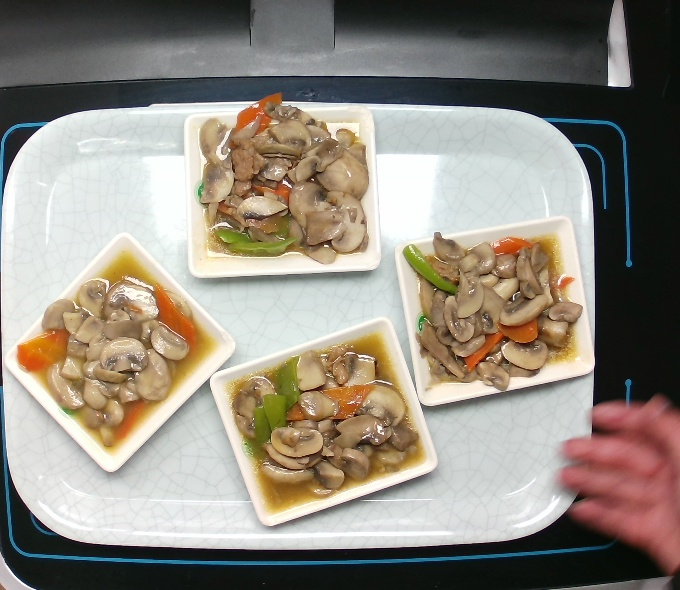wcq-HouTouGuChaoRou: (15, 250, 218, 453), (226, 335, 428, 511), (403, 221, 589, 398), (189, 88, 375, 265)
